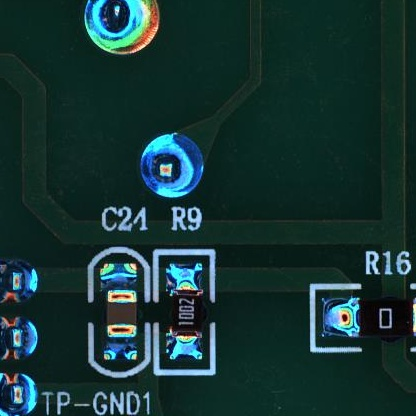spot: (79, 1, 161, 59), (137, 132, 205, 196), (1, 316, 39, 365), (1, 370, 39, 416), (1, 260, 39, 303)
